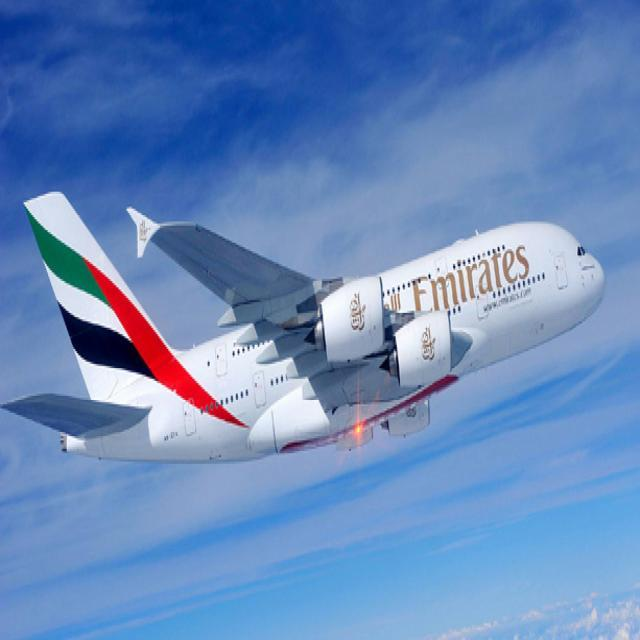Emirates: (411, 243, 531, 312)
